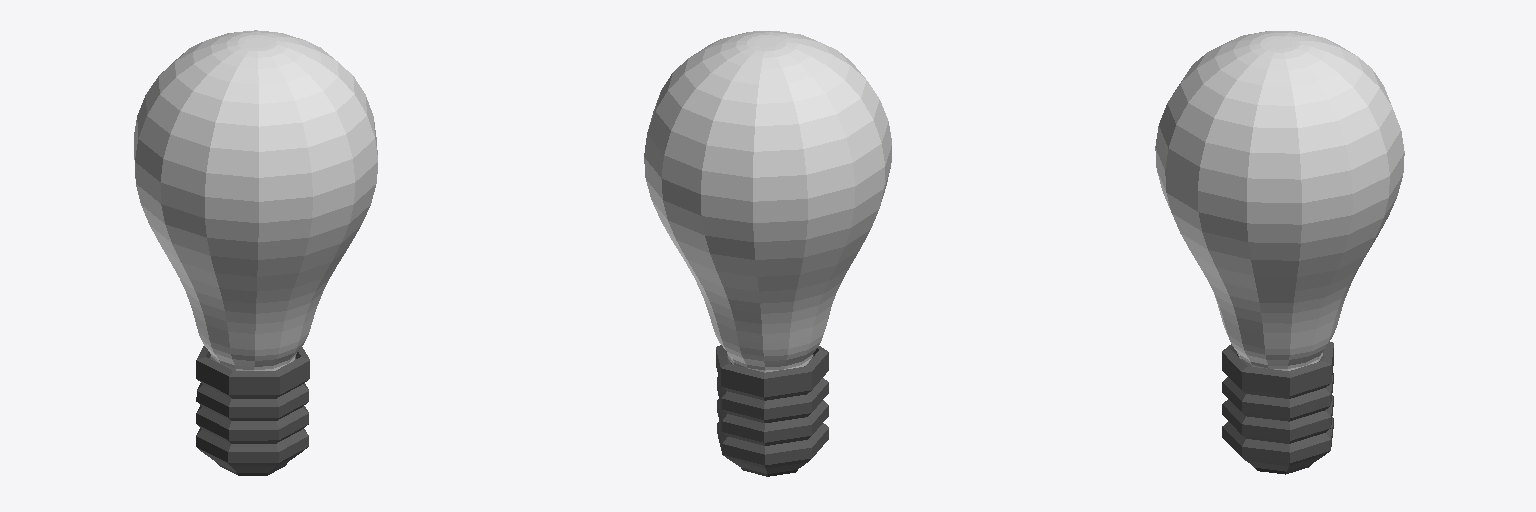
The picture shows the model from 3 angles: view 1: azimuth 30°, elevation 25°; view 2: azimuth 150°, elevation 25°; view 3: azimuth 270°, elevation 25°; orthographic projection.
Parts seen in each view (by area): view 1: Light; view 2: Light; view 3: Light.
Part boxes in pixels (x1,y1,x2,y2): Light: (134, 30, 377, 475); Light: (644, 31, 891, 476); Light: (1155, 31, 1404, 474).
Bounding box in the file's own units: 1.61 × 3.07 × 1.63.
Materials: 1 (1 with a texture image).